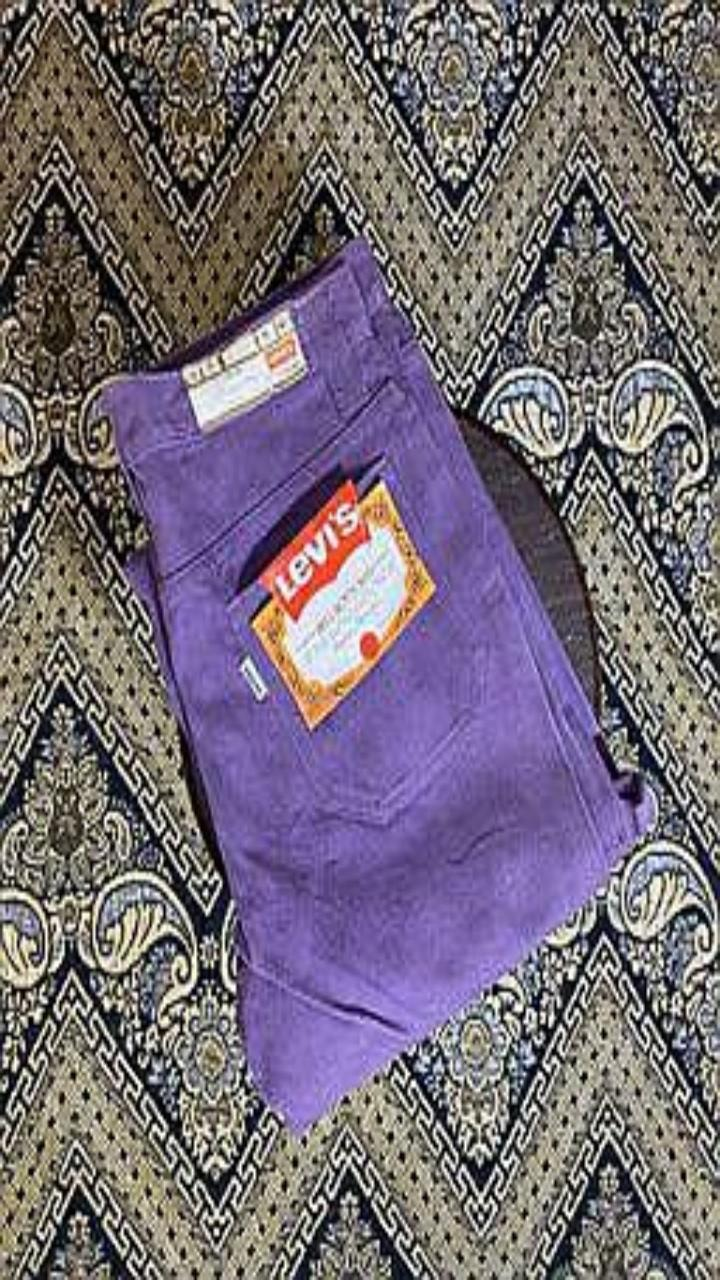Shorts: (101, 236, 652, 1132)
